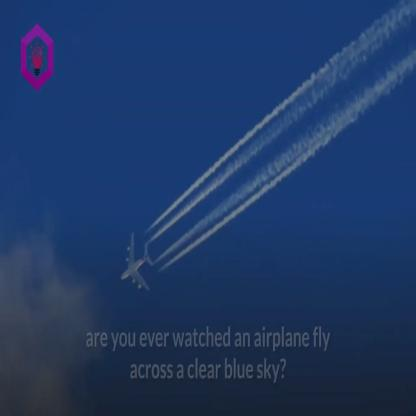plane: (114, 227, 158, 295)
